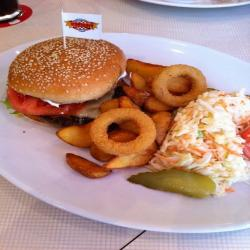burger: (9, 36, 134, 136)
omelette: (139, 81, 250, 198)
